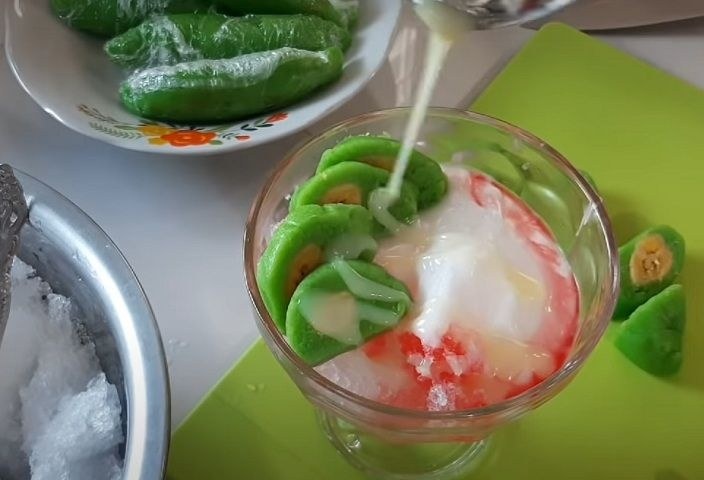es_pisang_ijo: (265, 124, 581, 412)
